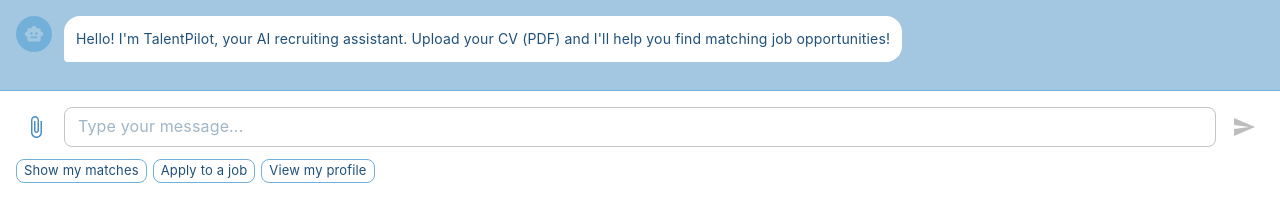
Test case: ChatInterface › helper chip "Show my matches" fills input
Click the button "Show my matches".
click(81, 171)  # box [16,159,147,183]
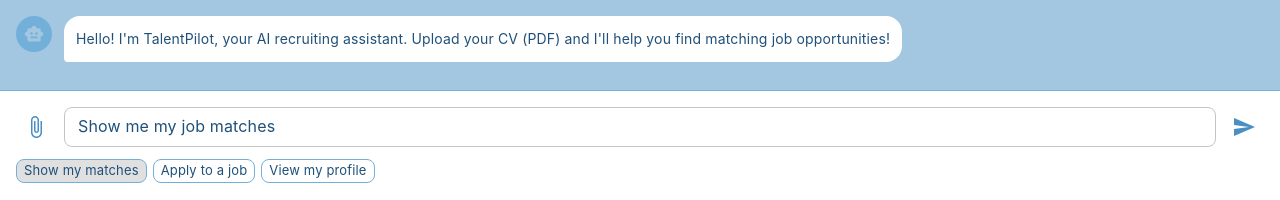
Check: the field with placeholder "Type your message..." holds "Show me my job matches", box [64,107,1216,147]
